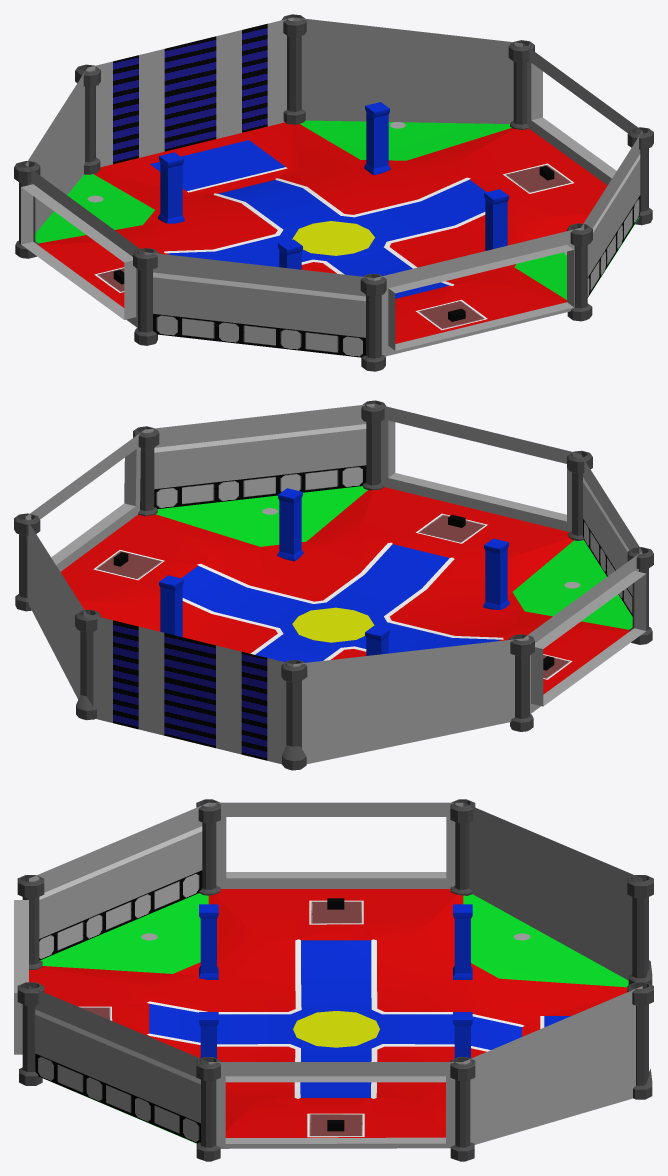
Rendered from Nivel1-Wtex.fbx.
The picture shows the model from 3 angles, top to bottom: view 1: azimuth 30°, elevation 25°; view 2: azimuth 150°, elevation 25°; view 3: azimuth 270°, elevation 25°; orthographic projection. The views are drawn at different scales.
Visible parts, largest first — view 1: PISO, pCube8, pCube9, pCube16, pCube12, pCube14, pCube15, pCube10, pCube7, A_Top10, A_Top12, A_Top13 (+9 smaller); view 2: PISO, pCube8, pCube7, pCube15, pCube12, pCube14, pCube9, pCube10, pCube16, A_Top11, A_Top10, A_Top16 (+9 smaller); view 3: PISO, pCube9, pCube7, pCube15, pCube16, pCube14, pCube10, A_Top11, A_Top15, A_Top14, A_Top10, pCube12 (+8 smaller).
Part boxes in pixels (box(x1,y1,x2,y2)): PISO: box(35, 120, 639, 343); pCube8: box(87, 17, 293, 167); pCube9: box(293, 17, 522, 123); pCube16: box(144, 252, 374, 357); pCube12: box(374, 228, 580, 356); pCube14: box(21, 165, 144, 327); pCube15: box(581, 131, 642, 297); pCube10: box(523, 43, 642, 185); pCube7: box(25, 68, 87, 233); A_Top10: box(281, 14, 306, 124); A_Top12: box(360, 273, 386, 371); A_Top13: box(133, 248, 159, 345); PISO: box(60, 486, 632, 694); pCube8: box(87, 614, 293, 764); pCube7: box(293, 638, 522, 764); pCube15: box(144, 403, 374, 508); pCube12: box(374, 403, 580, 532); pCube14: box(523, 551, 646, 713); pCube9: box(25, 517, 86, 699); pCube10: box(25, 430, 144, 571); pCube16: box(580, 454, 641, 616); A_Top11: box(281, 660, 307, 770); A_Top10: box(75, 609, 100, 720); A_Top16: box(508, 634, 534, 731); PISO: box(29, 889, 628, 1143); pCube9: box(463, 986, 642, 1144); pCube7: box(463, 802, 642, 980); pCube15: box(29, 986, 208, 1143); pCube16: box(29, 802, 208, 960); pCube14: box(208, 802, 463, 888); pCube10: box(208, 1062, 463, 1148); A_Top11: box(627, 875, 653, 984); A_Top15: box(450, 1057, 475, 1161); A_Top14: box(196, 1057, 220, 1161); A_Top10: box(627, 982, 653, 1099); pCube12: box(14, 900, 28, 1054).
Bounding box in the file's own units: 76.04 × 14.41 × 75.58.
